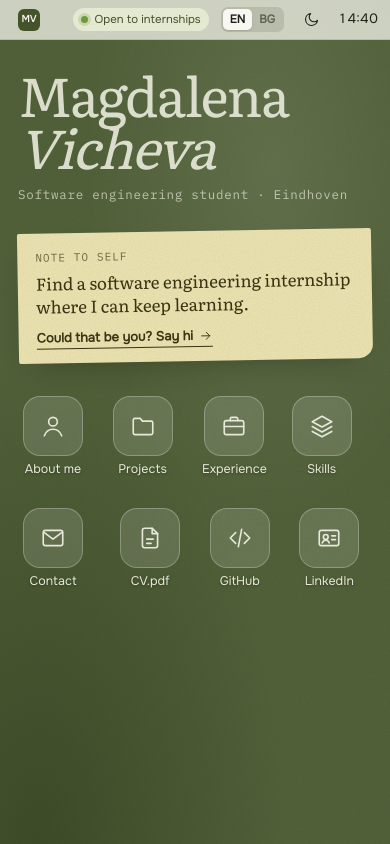
Test: A recruiter's visit › becomes a home screen on phones
Click the button "Projects": click(143, 436) x1=108 y1=387 x2=178 y2=485
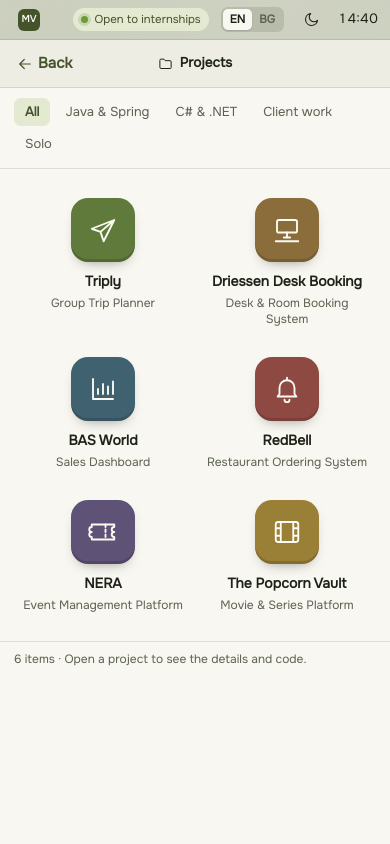
Result: the button "Back" is shown at x1=12 y1=46 x2=158 y2=81
